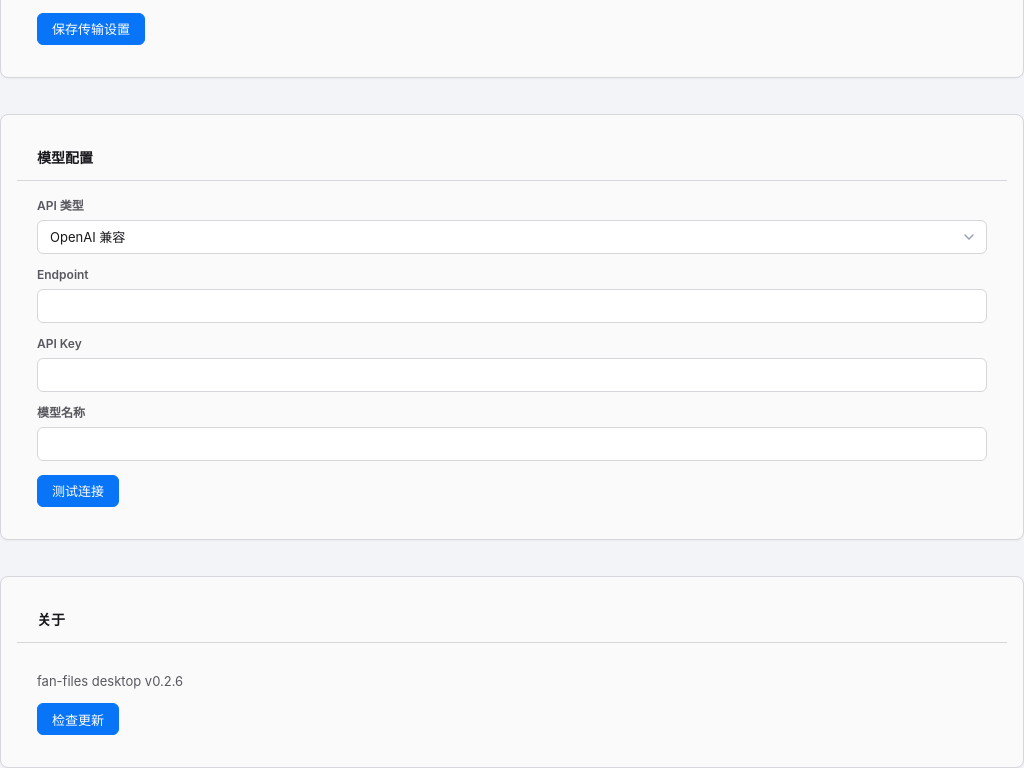
Scenario: SettingsPage › shows 连接成功 when test_connection returns true
(page scrolled)
Click the button "测试连接" at (78, 490), box 37,474 -> 119,506
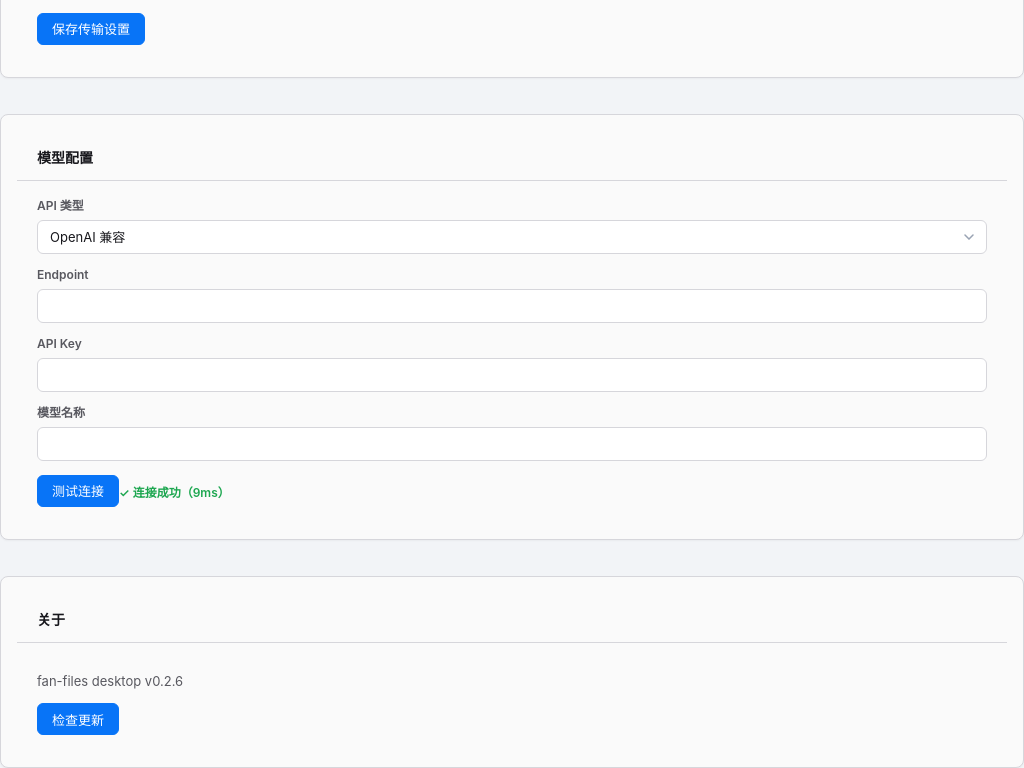
Expected: the text "✓ 连接成功（9ms）" is shown, 119,484 -> 230,499
